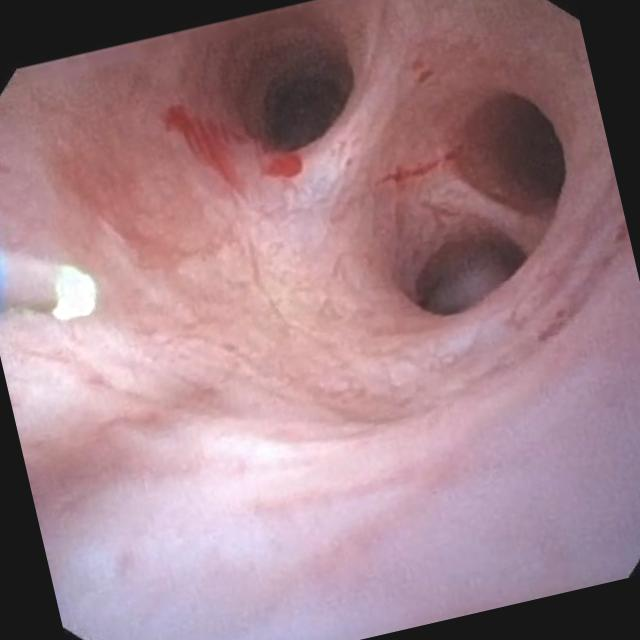laser-fibre: (0, 248, 95, 319)
